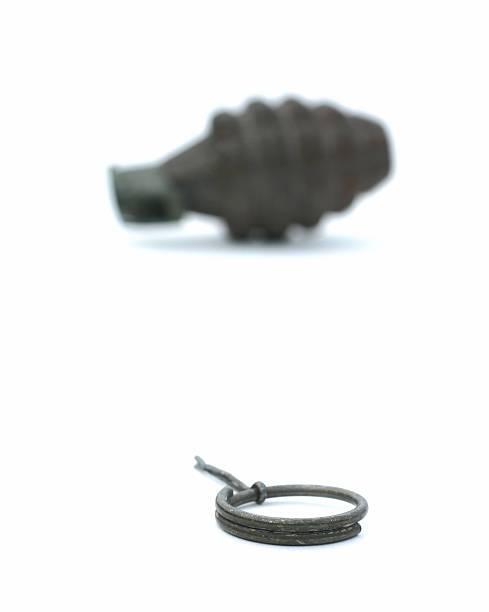e1: (101, 103, 395, 240)
